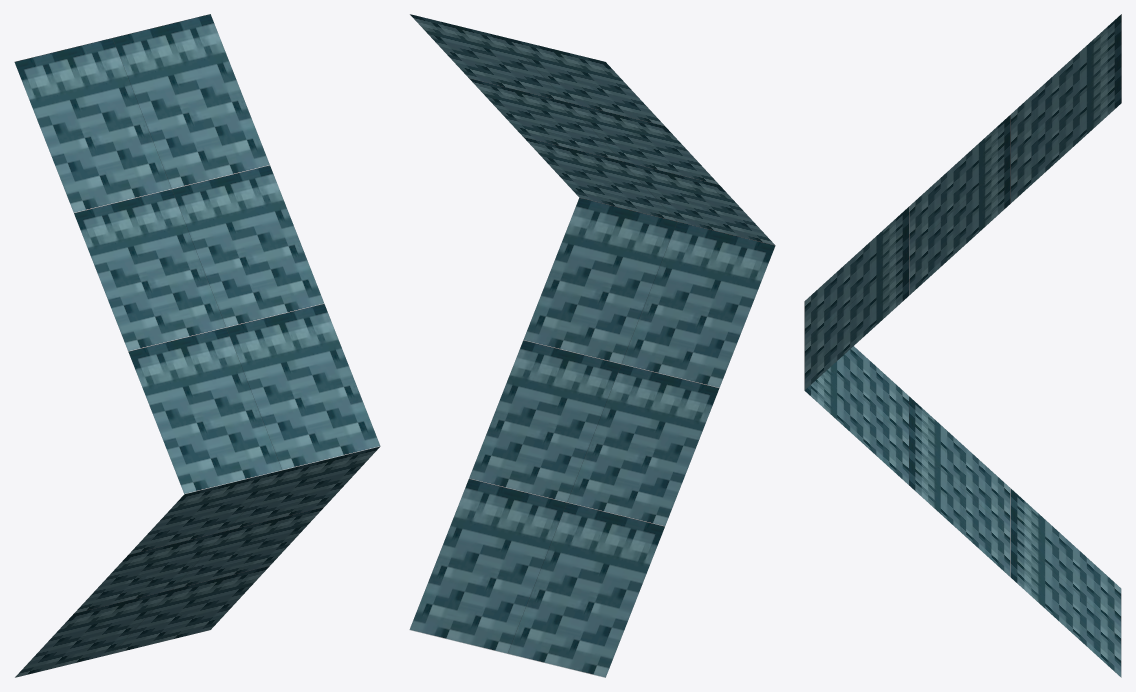
The model's file is Roof_6x2_A.fbx.
The picture shows the model from 3 angles, left to right: view 1: azimuth 30°, elevation 25°; view 2: azimuth 150°, elevation 25°; view 3: azimuth 270°, elevation 25°; orthographic projection. The views are drawn at different scales.
Visible parts, largest first — view 1: Roof_6x2_A; view 2: Roof_6x2_A; view 3: Roof_6x2_A.
Part boxes in pixels (left/top/right/bottom): Roof_6x2_A: left=14, top=14, right=380, bottom=677; Roof_6x2_A: left=409, top=14, right=775, bottom=677; Roof_6x2_A: left=804, top=14, right=1121, bottom=677.
Size of the model in its own units: 600 by 200 by 300.
